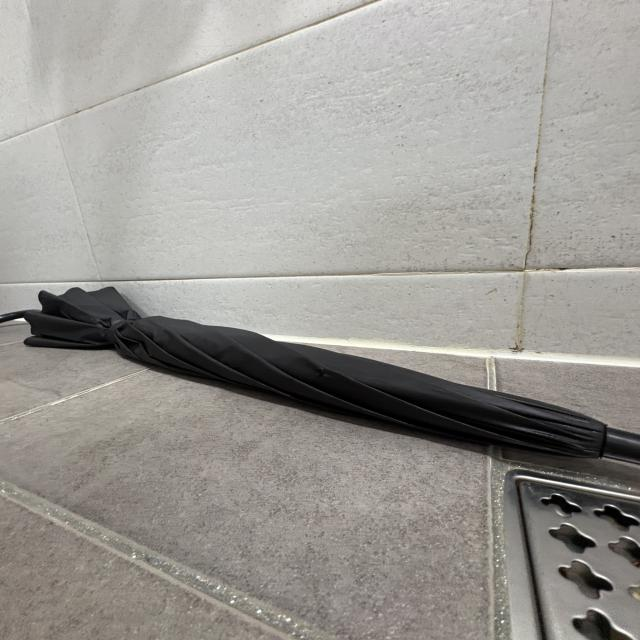umbrella: (1, 282, 638, 464)
